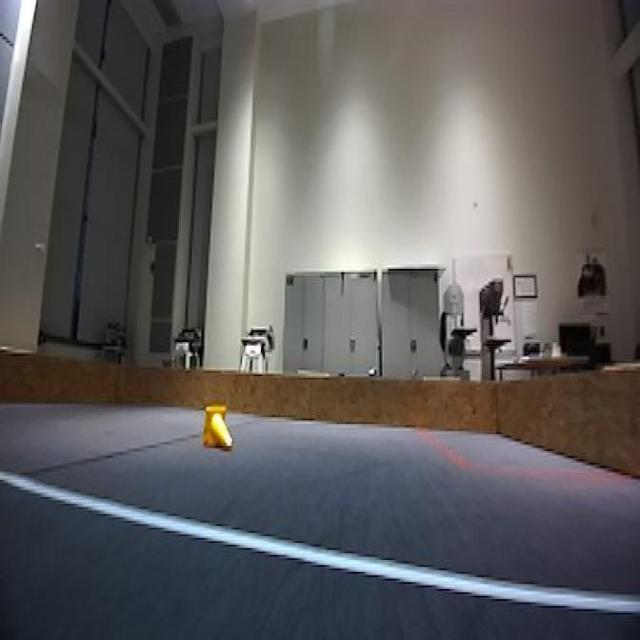frc_cone: (200, 398, 234, 454)
